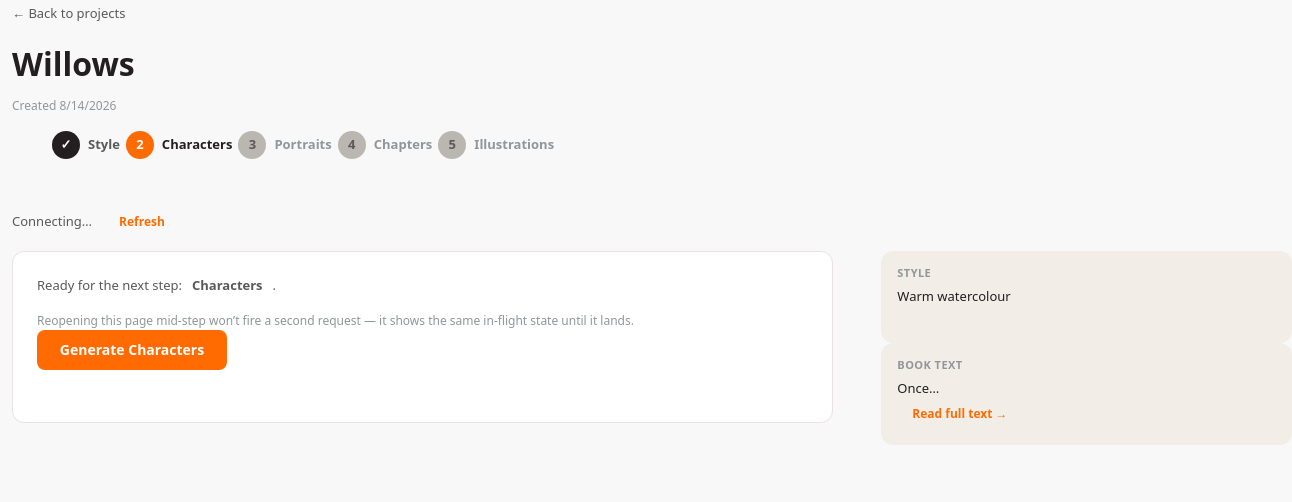
Scenario: a pending reconciliation keeps prior truth and the banner while releasing busy
The image size is (1292, 502).
Step 1. Click the button "Generate Characters" → click(132, 350), box [37,330,227,370]
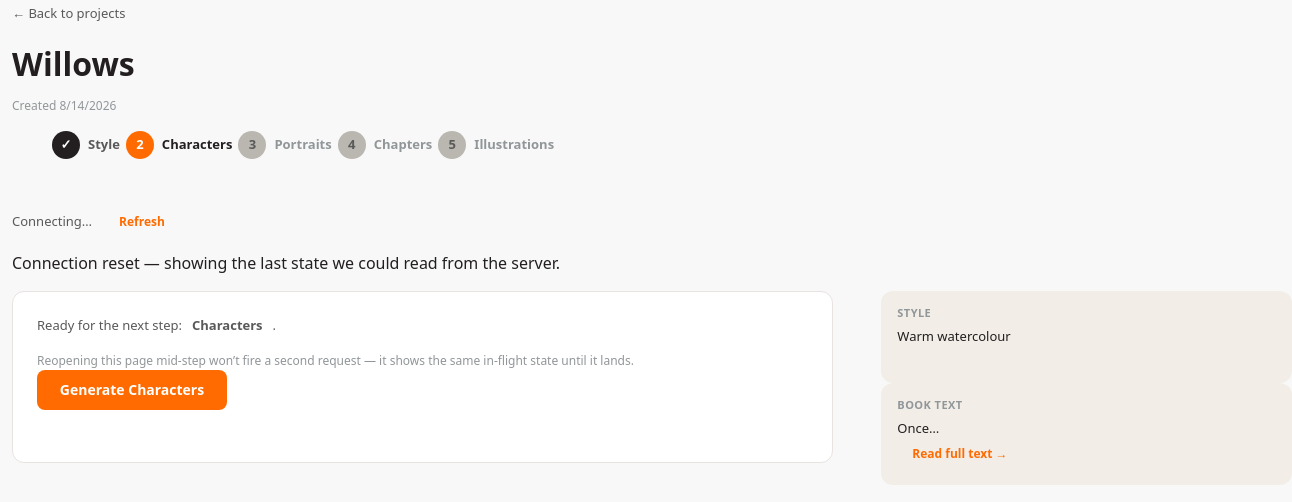
Expected: the heading "Willows" is shown, [12,42,135,85]
Result: the message "Connection reset — showing the last state we could read from the server." is shown at [12,252,560,274]
